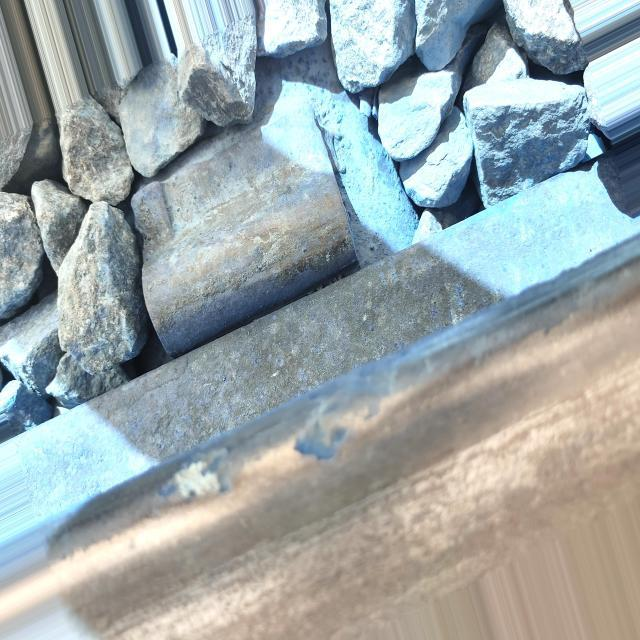Missing Fastener: (134, 97, 367, 371)
